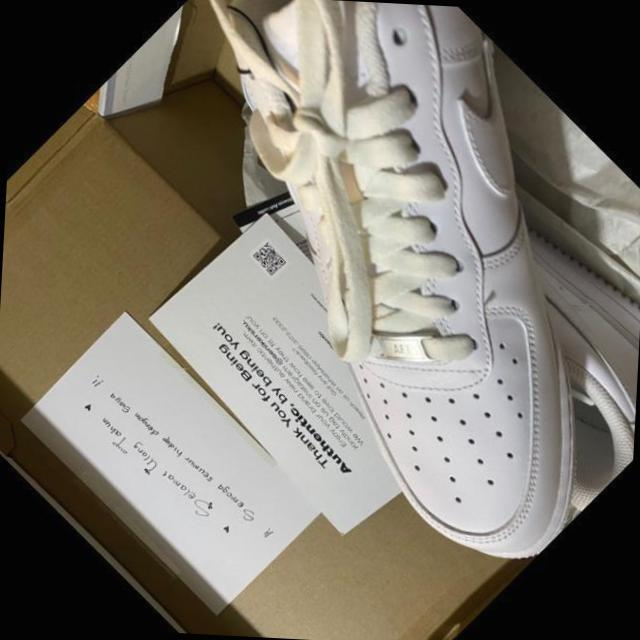nike_original_airforce: (22, 0, 640, 602)
